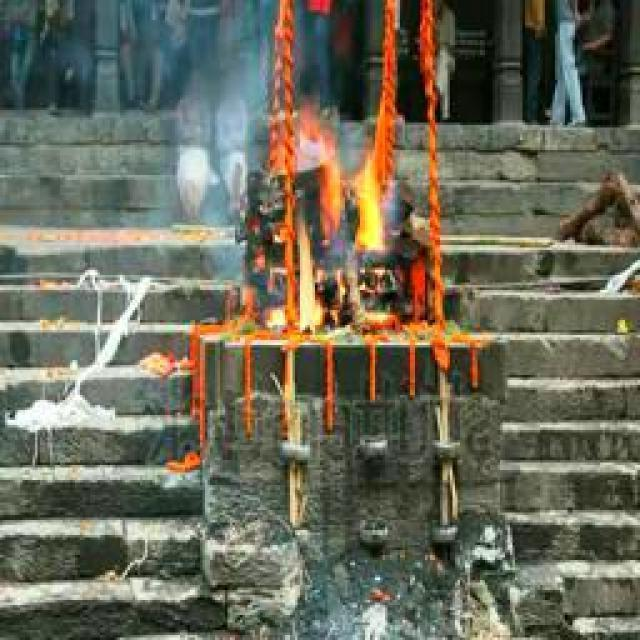Fire: (278, 137, 389, 340)
